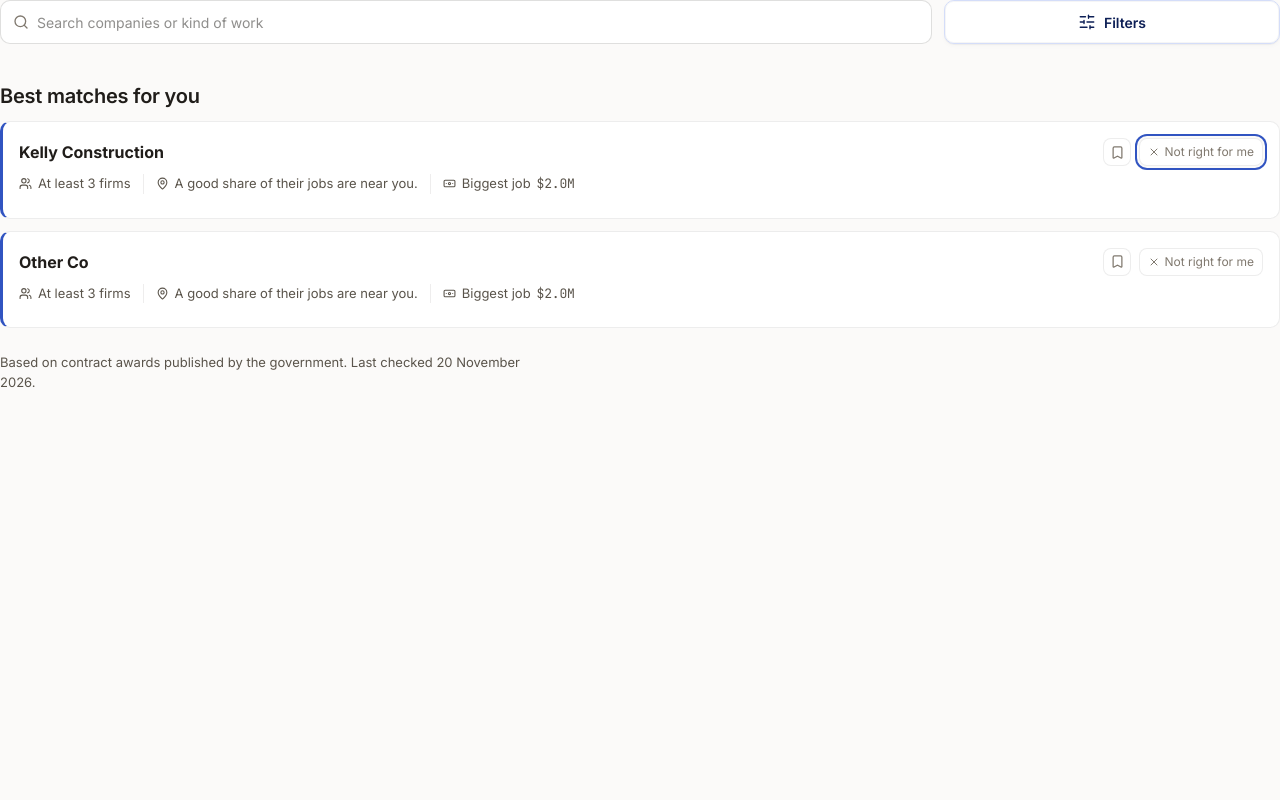
it: Not right for me › returns focus to a card when Esc closes the confirm
Step 1. Click the button "Not right for me" in the row of "Kelly Construction" → coordinates (1201, 152), box [1140,138,1263,166]
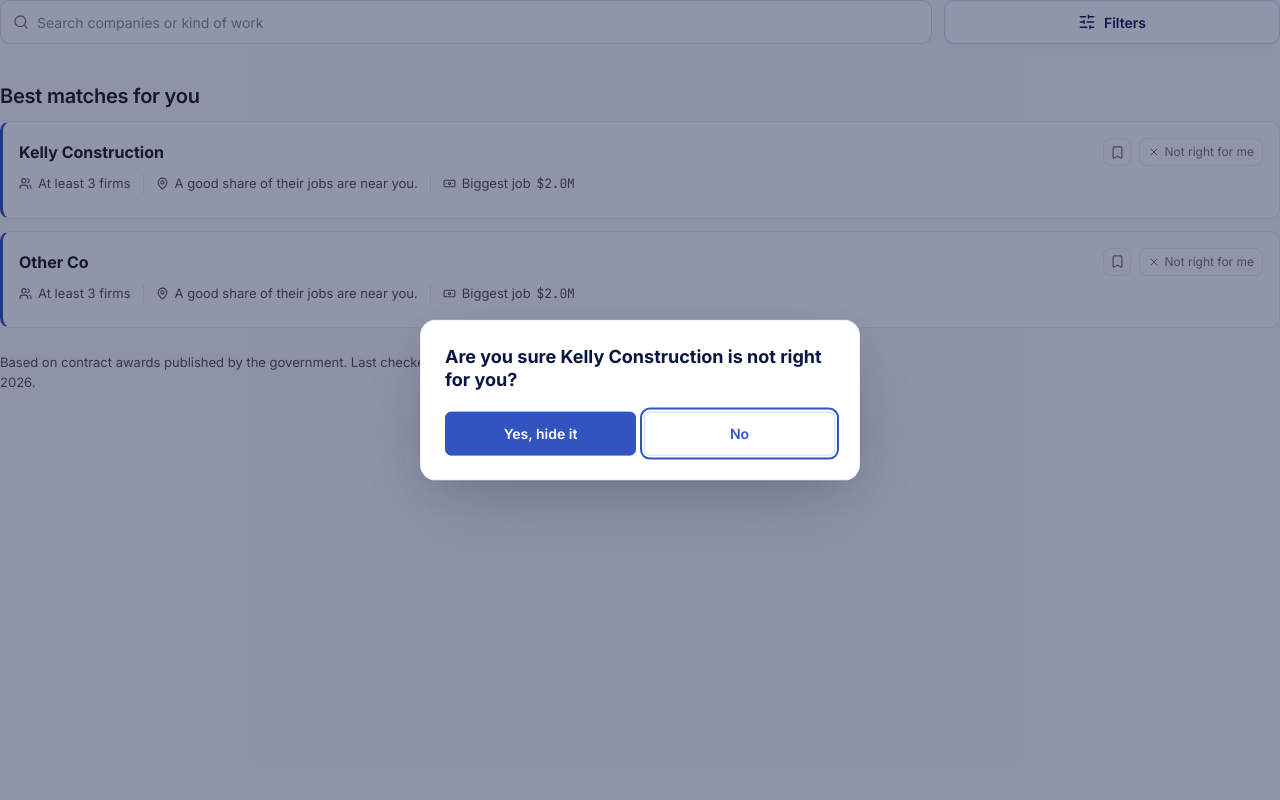
Check: the button "No" is shown, box [644,411,835,455]
// The safe answer has the focus, not "Yes, hide it".
Step 2. Press Escape in the dialog, box [420,320,860,480]
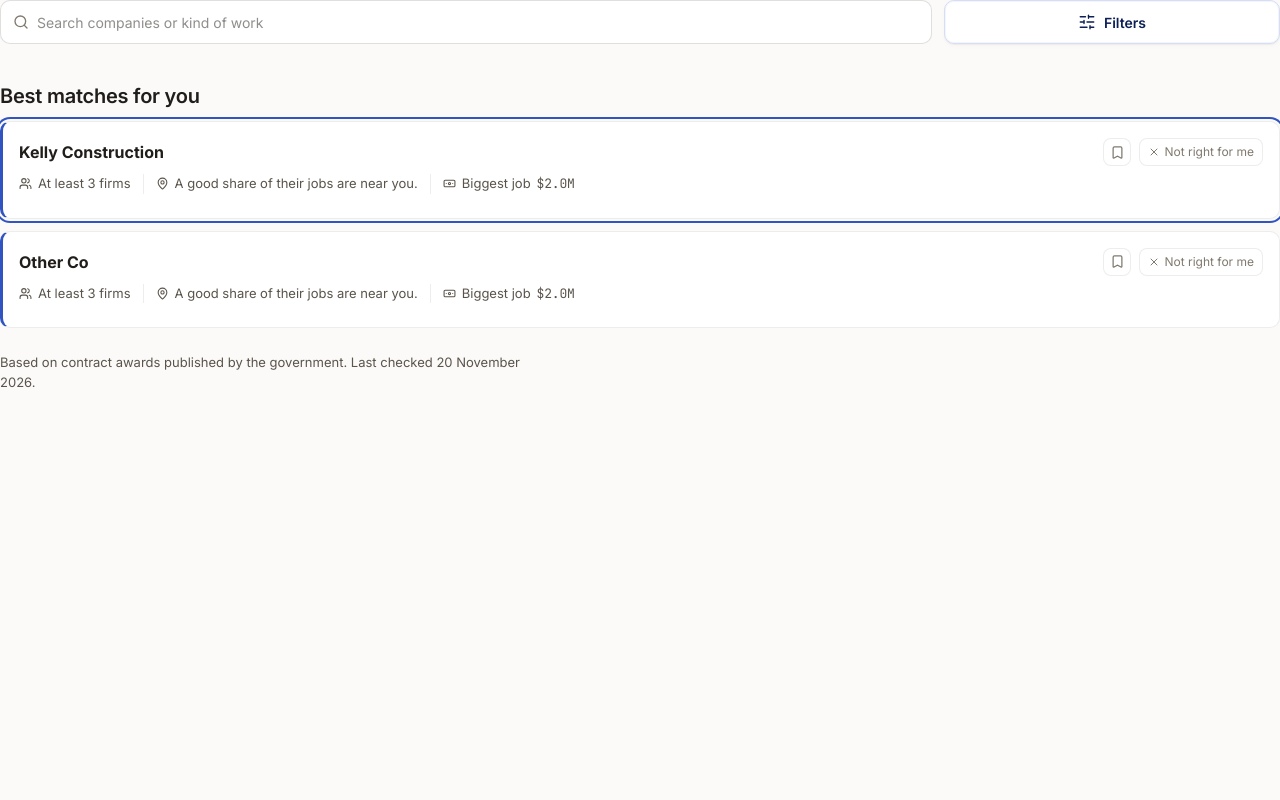
Check: the link with aria-label "Open Kelly Construction" is shown, box [0,121,1279,218]
Check: the dialog is gone
